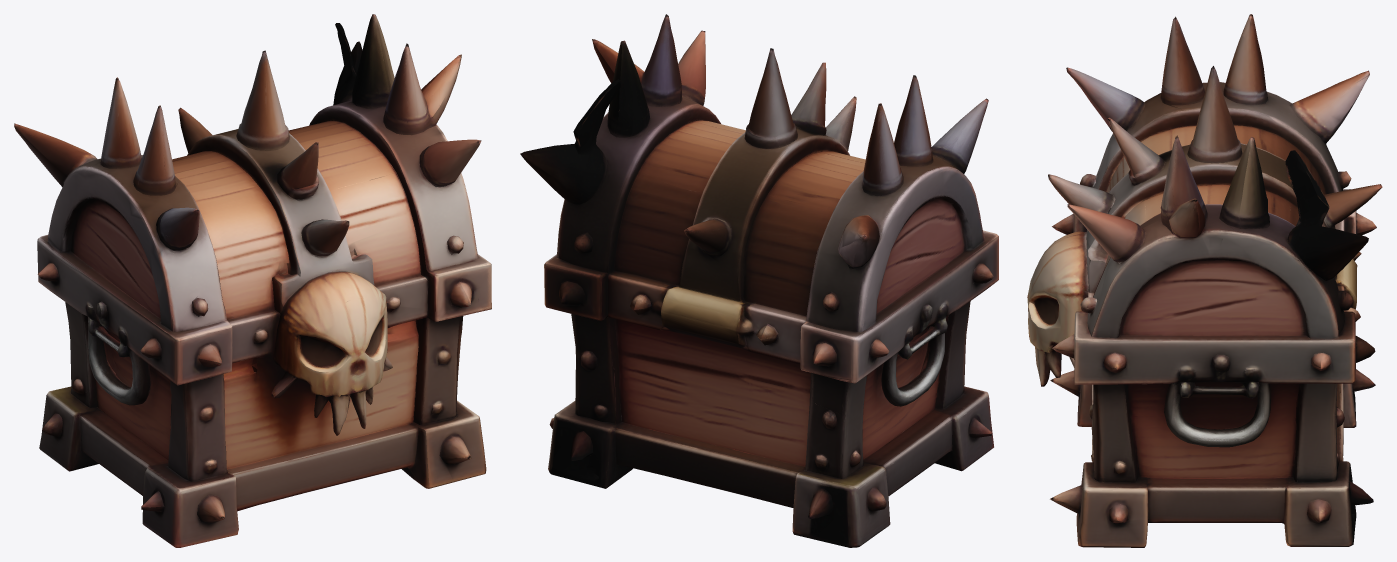
3 views of the same model, side by side, from view 1: azimuth 30°, elevation 25°; view 2: azimuth 150°, elevation 25°; view 3: azimuth 270°, elevation 25° (orthographic).
Visible parts, largest first — view 1: world_0; view 2: world_0; view 3: world_0.
Part boxes in pixels (<box>): world_0: <box>14,14,491,547</box>; world_0: <box>520,14,998,547</box>; world_0: <box>1027,14,1382,547</box>.
Size of the model in its own units: 0.5981 by 0.6504 by 0.5145.
1 material, 1 textured.
